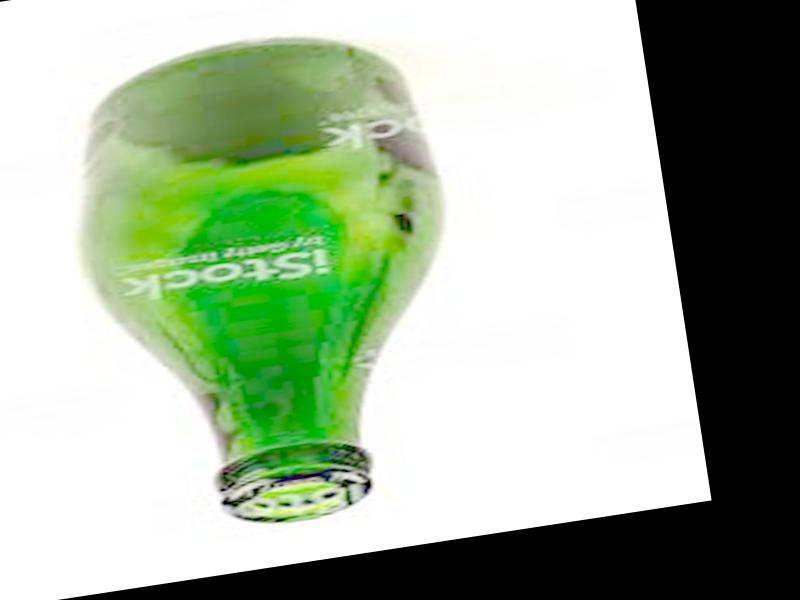Beer: (51, 14, 490, 549)
